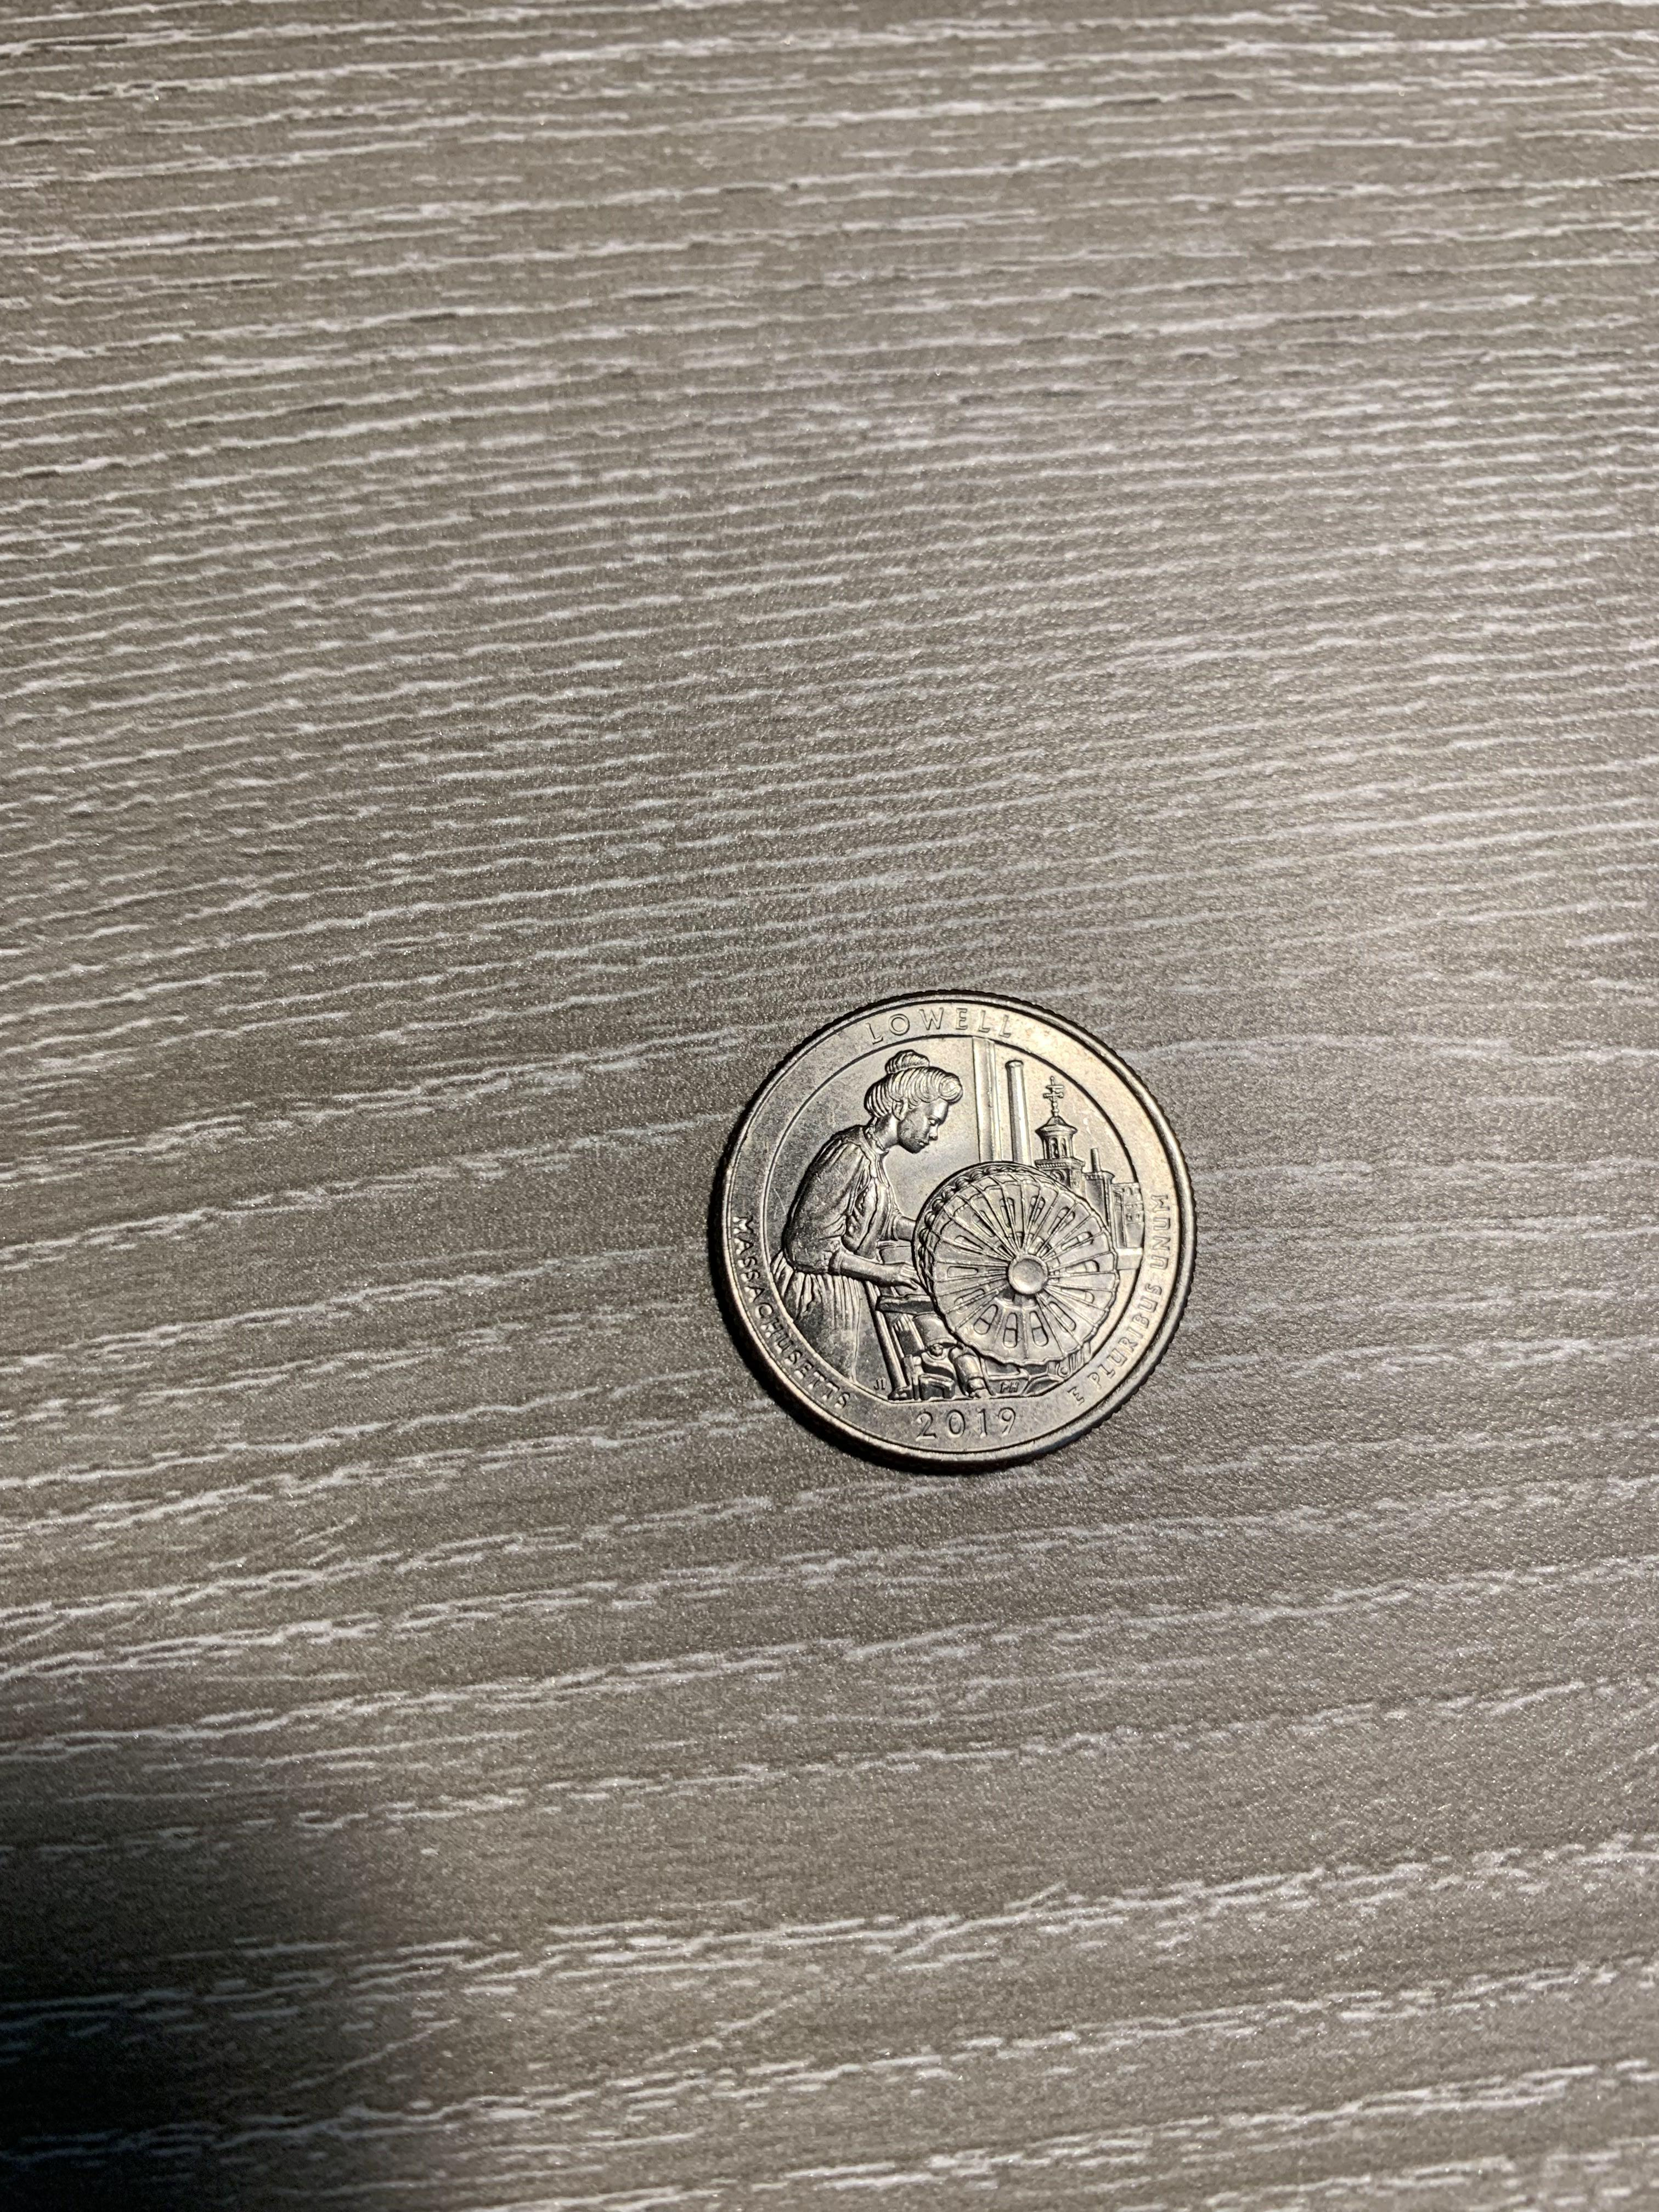Quarter: (690, 970, 1229, 1487)
